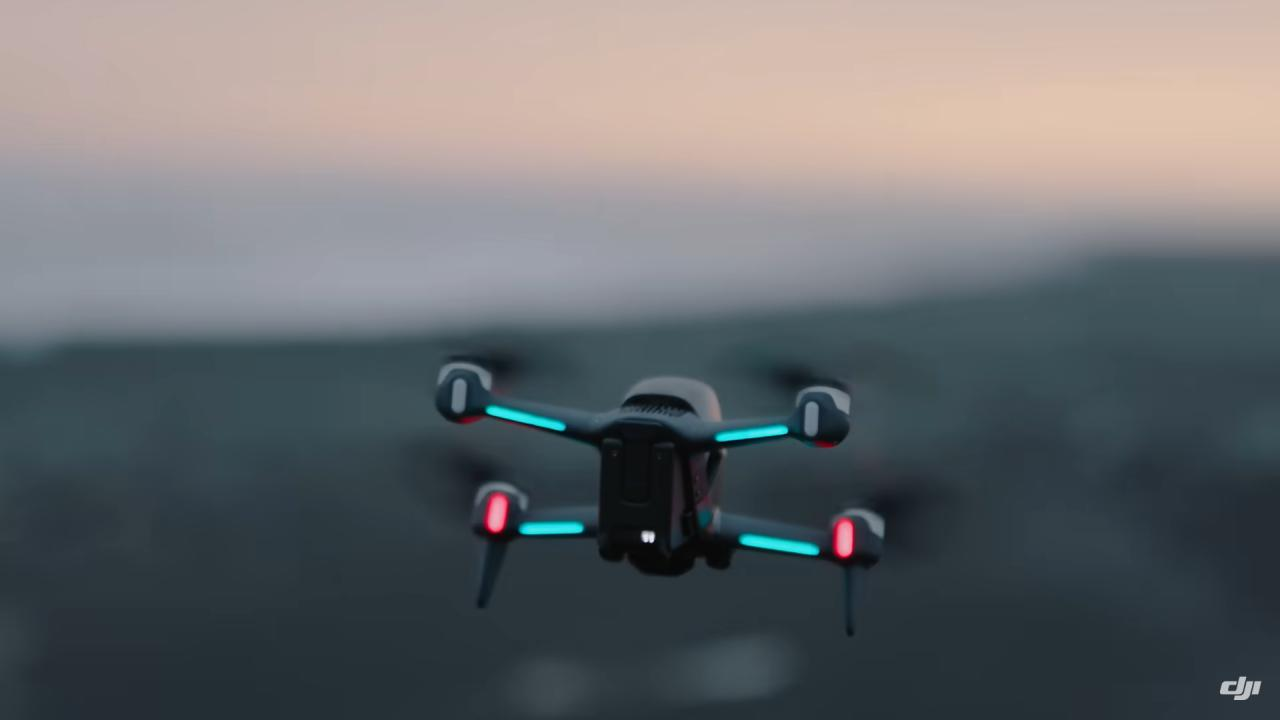Drone: (412, 323, 914, 658)
